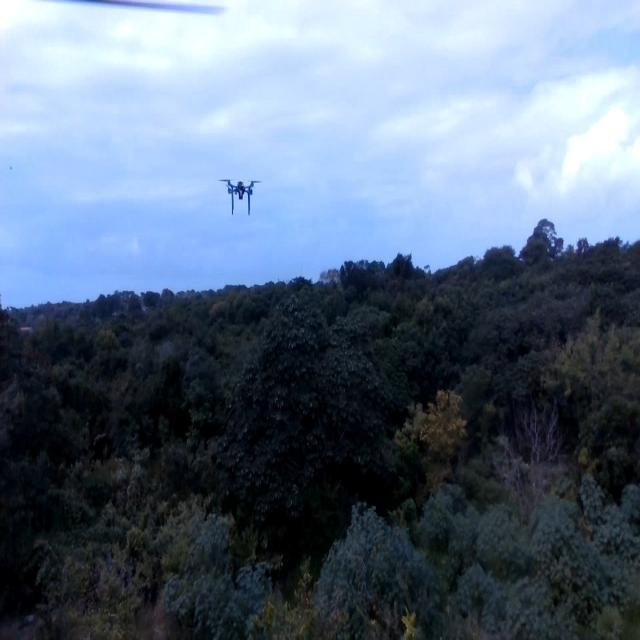-uav-: (216, 162, 266, 226)
